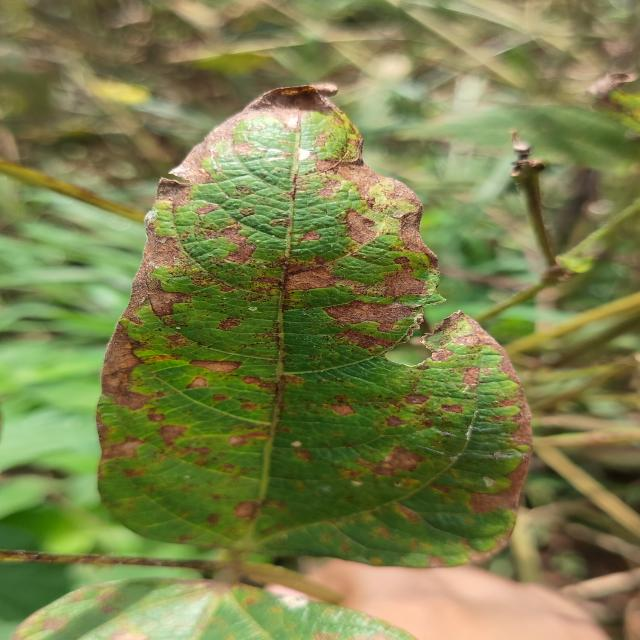Black gram_leaf spot: (89, 76, 533, 571)
